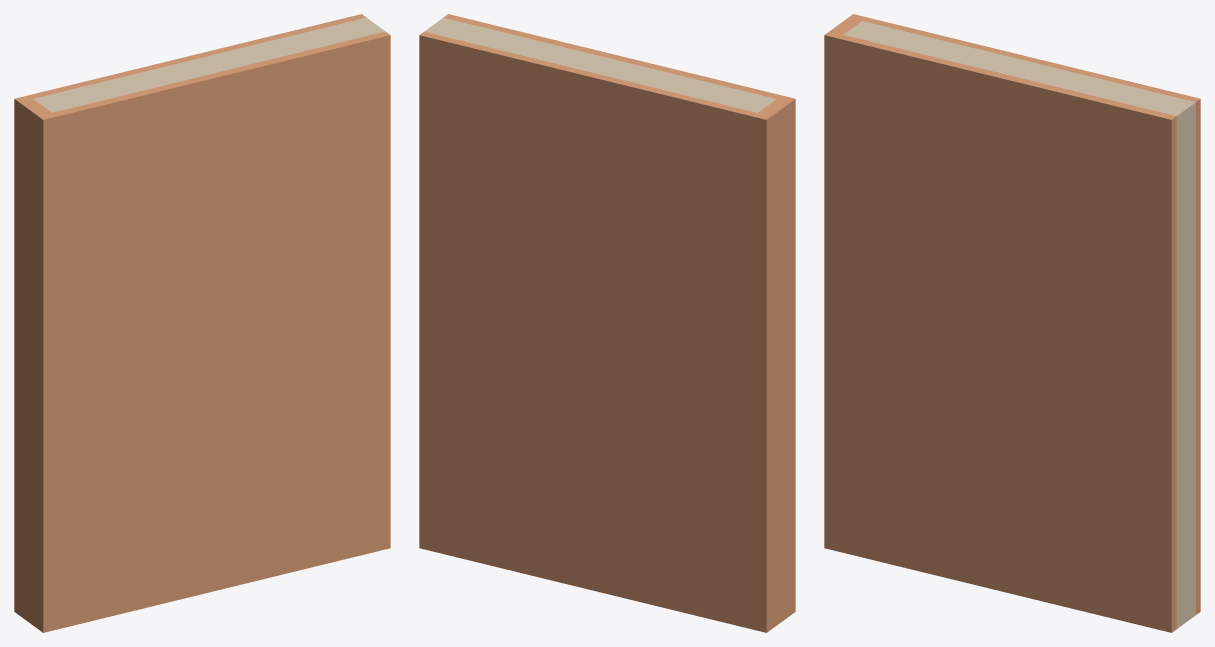
Rendered from Books_3.fbx.
3 renders of one model, left to right at view 1: azimuth 30°, elevation 25°; view 2: azimuth 150°, elevation 25°; view 3: azimuth 330°, elevation 25°, orthographic.
Visible parts, largest first — view 1: pCube766; view 2: pCube766; view 3: pCube766.
Part boxes in pixels (<box>): pCube766: <box>14,14,390,632</box>; pCube766: <box>419,14,795,632</box>; pCube766: <box>824,14,1200,632</box>.
Size of the model in its own units: 0.3055 by 0.4311 by 0.044.
Materials: 1 (1 with a texture image).
